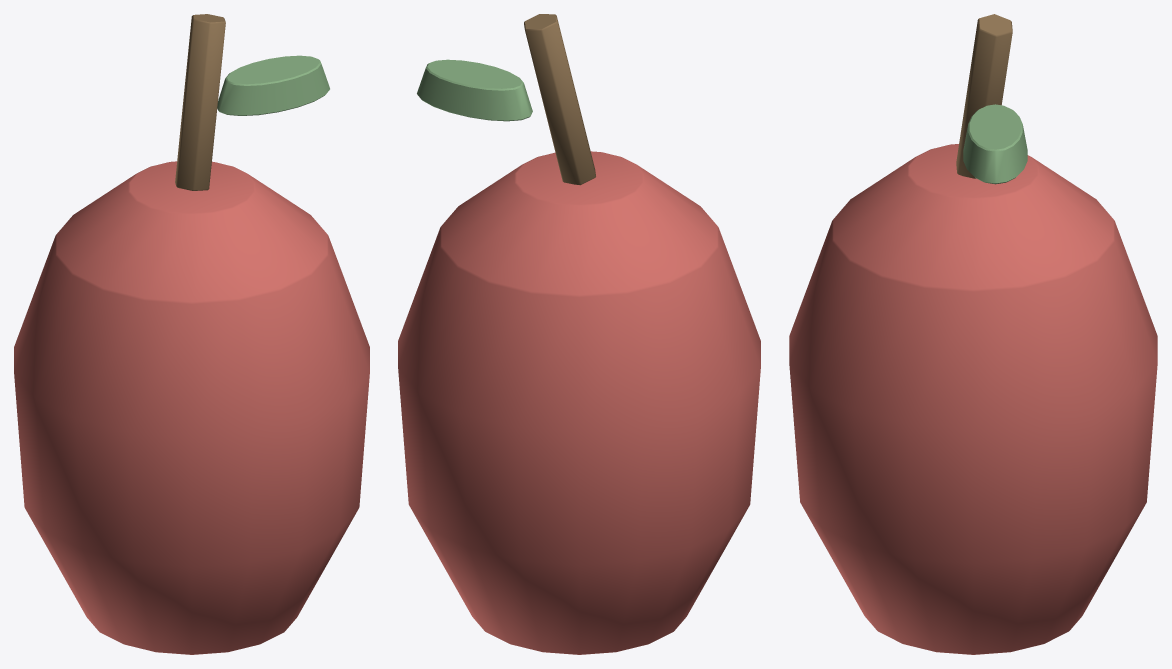
The model's file is IT_apple.fbx.
3 renders of one model, left to right at view 1: azimuth 30°, elevation 25°; view 2: azimuth 150°, elevation 25°; view 3: azimuth 270°, elevation 25°, orthographic. The views are drawn at different scales.
Visible parts, largest first — view 1: IT_apple; view 2: IT_apple; view 3: IT_apple.
Part boxes in pixels (x1,y1,x2,y2): IT_apple: [14, 14, 369, 654]; IT_apple: [398, 14, 760, 654]; IT_apple: [789, 14, 1157, 654].
Size of the model in its own units: 0.34 by 0.6032 by 0.3348.
